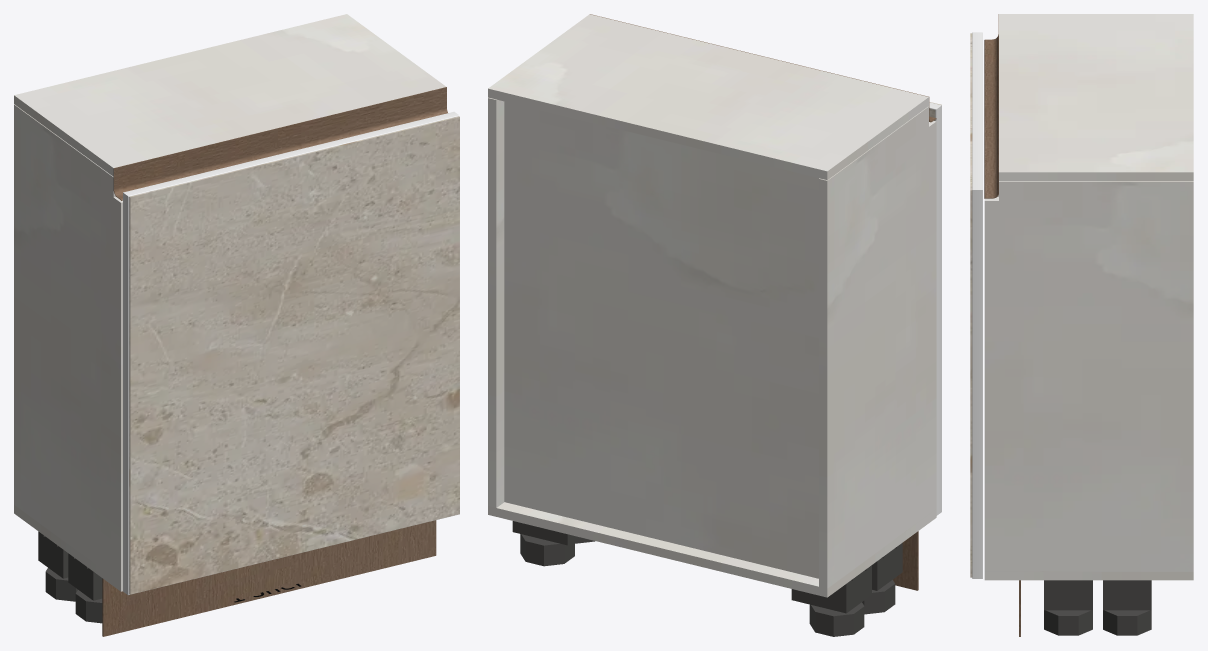
3 views of the same model, side by side, from view 1: azimuth 30°, elevation 25°; view 2: azimuth 150°, elevation 25°; view 3: azimuth 270°, elevation 25° (orthographic). The views are drawn at different scales.
Size of what is drawn, in the model's own units: 0.6 by 0.82 by 0.3569.
Materials: 6 (3 with a texture image).
